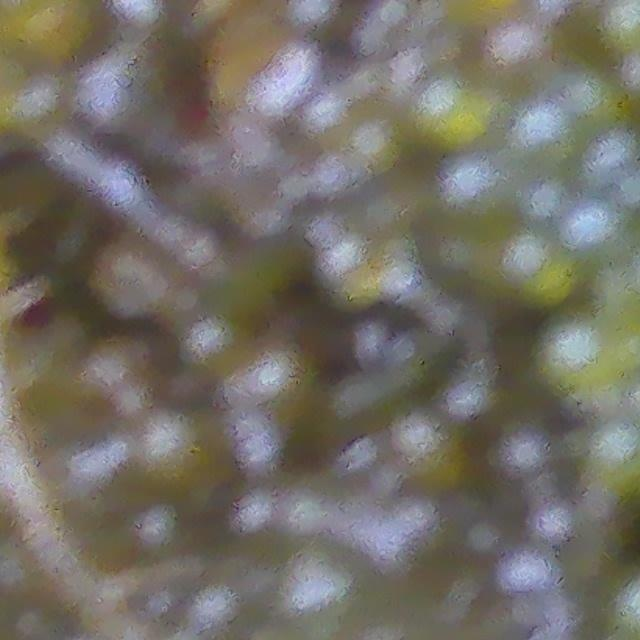SeaGrape: (425, 82, 493, 148), (542, 321, 604, 380), (588, 423, 640, 479)
